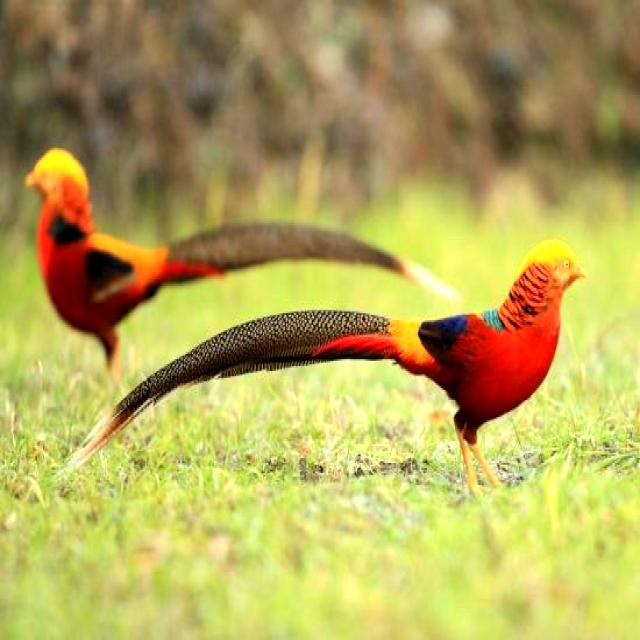Chrysolophus pictus feather: (71, 310, 389, 465), (169, 225, 454, 296)
